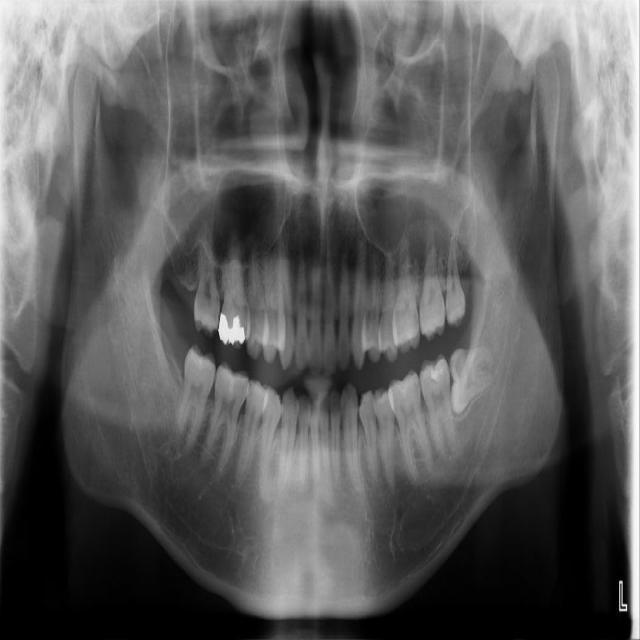Filling: (219, 313, 245, 344), (431, 369, 444, 382)
impacted tooth: (452, 344, 500, 417)
